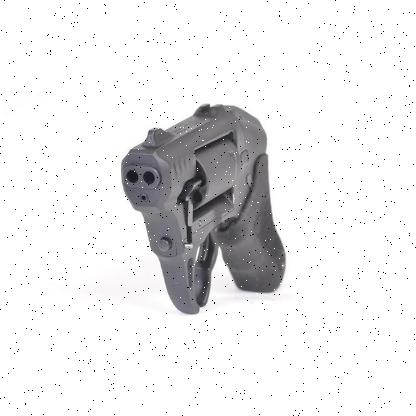gun: (112, 93, 290, 320)
